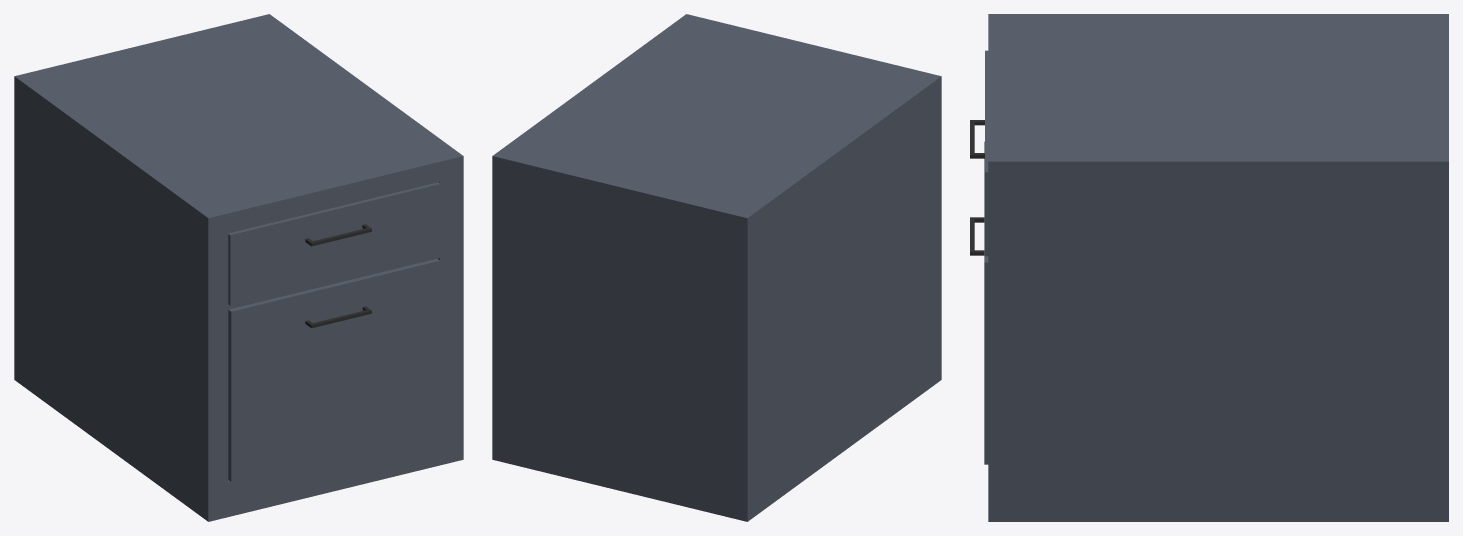
The model's file is CabinetShort.fbx.
3 views of the same model, side by side, from view 1: azimuth 30°, elevation 25°; view 2: azimuth 150°, elevation 25°; view 3: azimuth 270°, elevation 25° (orthographic). The views are drawn at different scales.
Visible parts, largest first — view 1: Cabinet, LowerDrawer, UpperDrawer; view 2: Cabinet; view 3: Cabinet, LowerDrawer, UpperDrawer.
Part boxes in pixels (x1,y1,x2,y2): Cabinet: (14, 14, 463, 521); LowerDrawer: (228, 258, 440, 481); UpperDrawer: (228, 182, 440, 305); Cabinet: (492, 14, 941, 521); Cabinet: (988, 14, 1448, 521); LowerDrawer: (984, 141, 988, 464); UpperDrawer: (985, 50, 988, 256).
Size of the model in its own units: 490 by 557 by 671.
